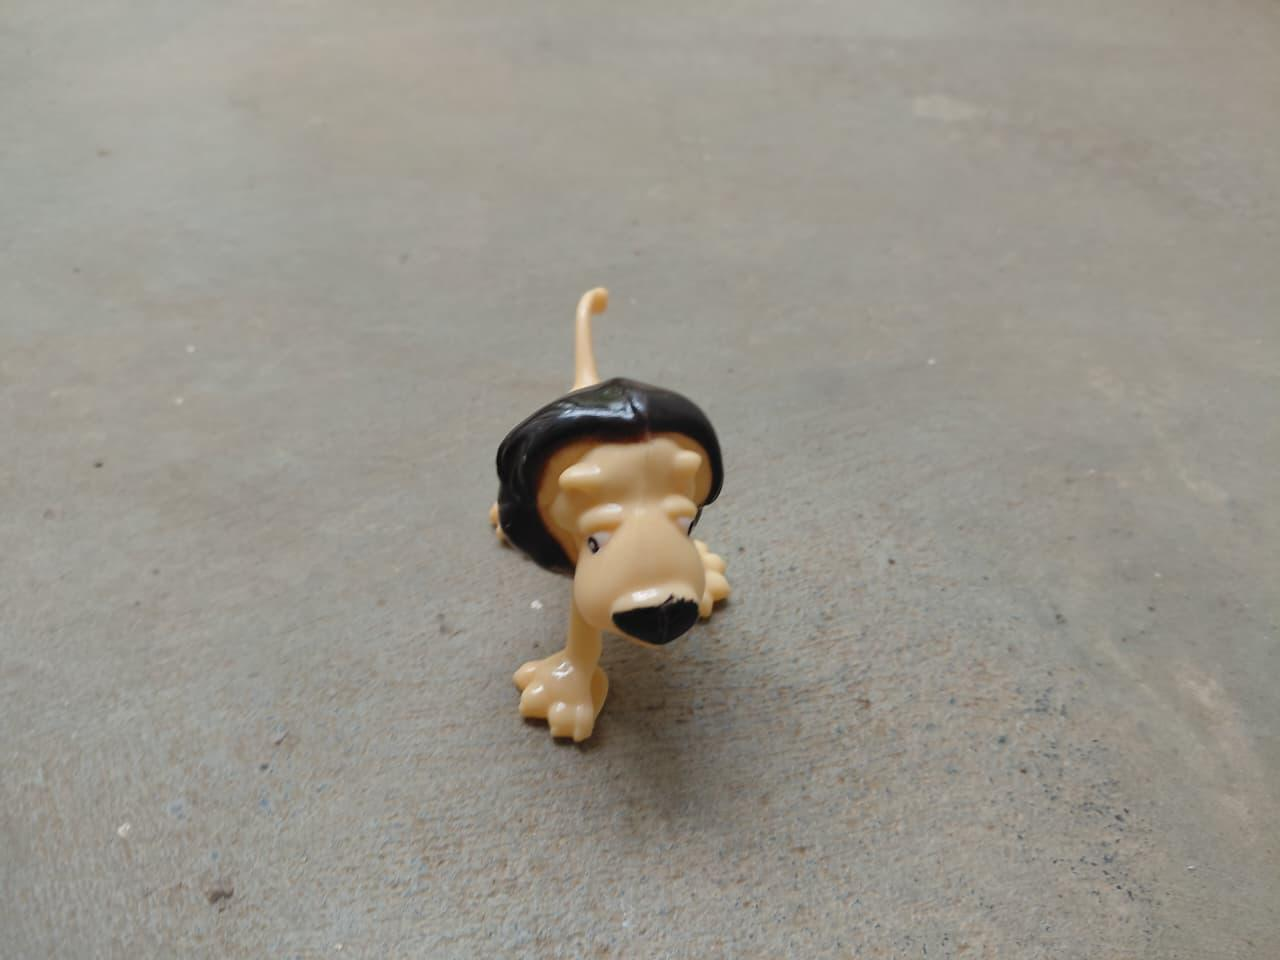lion: (474, 270, 739, 759)
